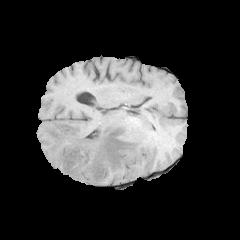glioma: (42, 124, 143, 183)
